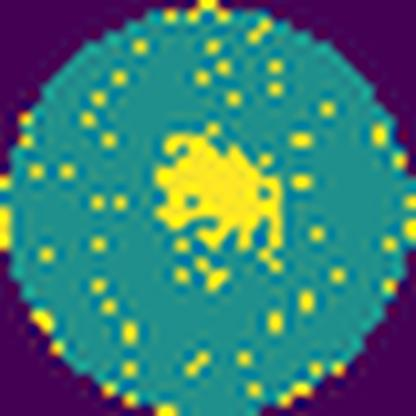Center: (154, 124, 285, 257)
